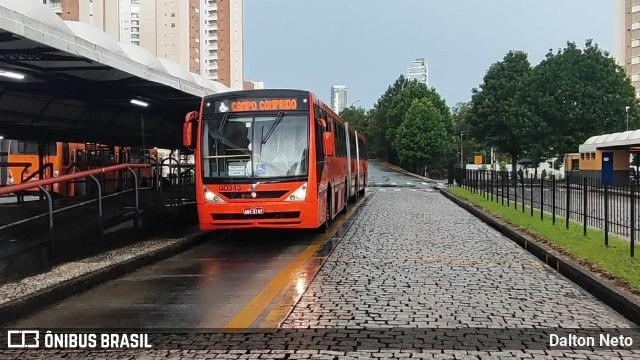CAMPO COMPRIDO: (228, 96, 299, 114)
